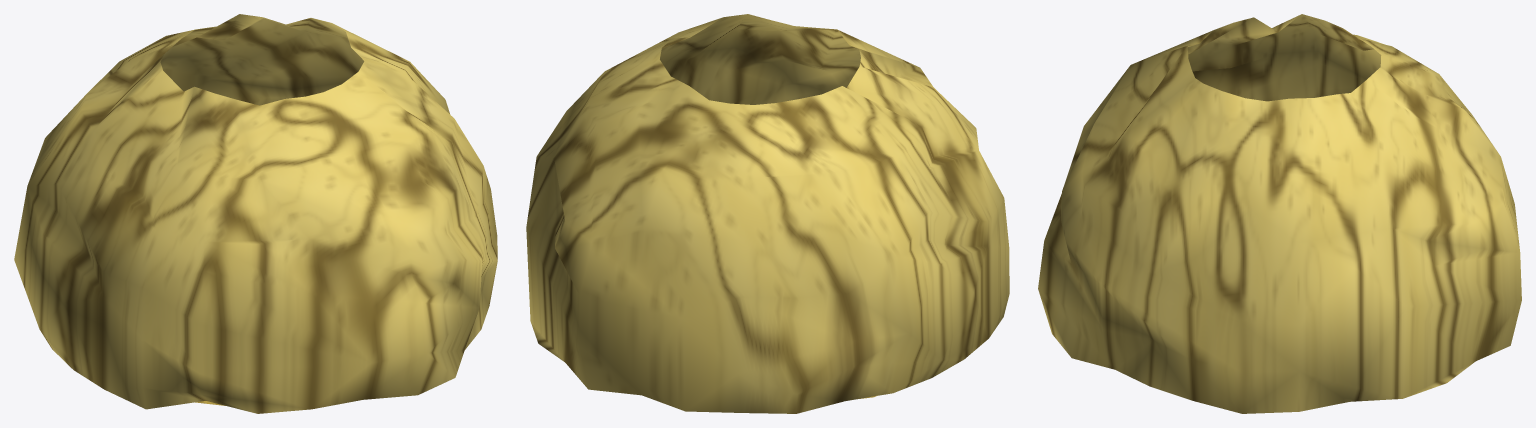
The model's file is plant_shallows_coral_brain_a_lod2.glb.
The picture shows the model from 3 angles, left to right: view 1: azimuth 30°, elevation 25°; view 2: azimuth 150°, elevation 25°; view 3: azimuth 270°, elevation 25°; orthographic projection.
Parts seen in each view (by area): view 1: plant_shallows_coral_brain_a; view 2: plant_shallows_coral_brain_a; view 3: plant_shallows_coral_brain_a.
Boxes of the visible parts, x1,y1,x2,y2 form: plant_shallows_coral_brain_a: [14, 14, 497, 413]; plant_shallows_coral_brain_a: [526, 14, 1009, 413]; plant_shallows_coral_brain_a: [1038, 14, 1521, 413].
Bounding box in the file's own units: 0.6127 × 0.3703 × 0.6241.
Materials: 1 (1 with a texture image).
